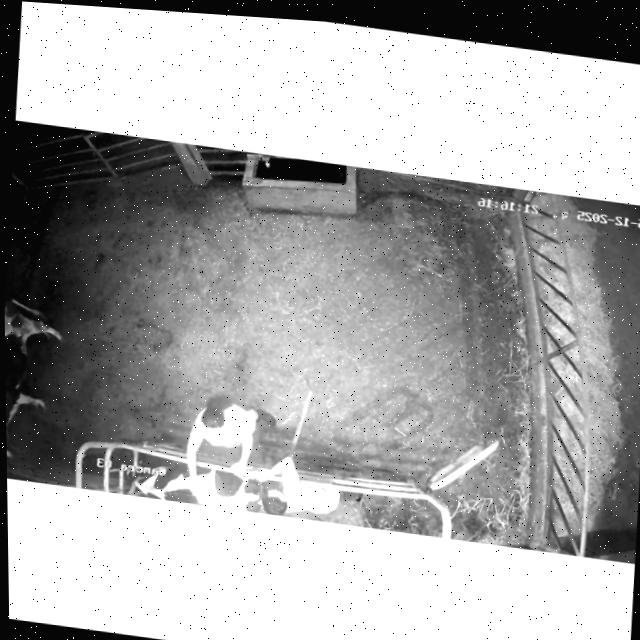stand: (4, 285, 94, 470)
